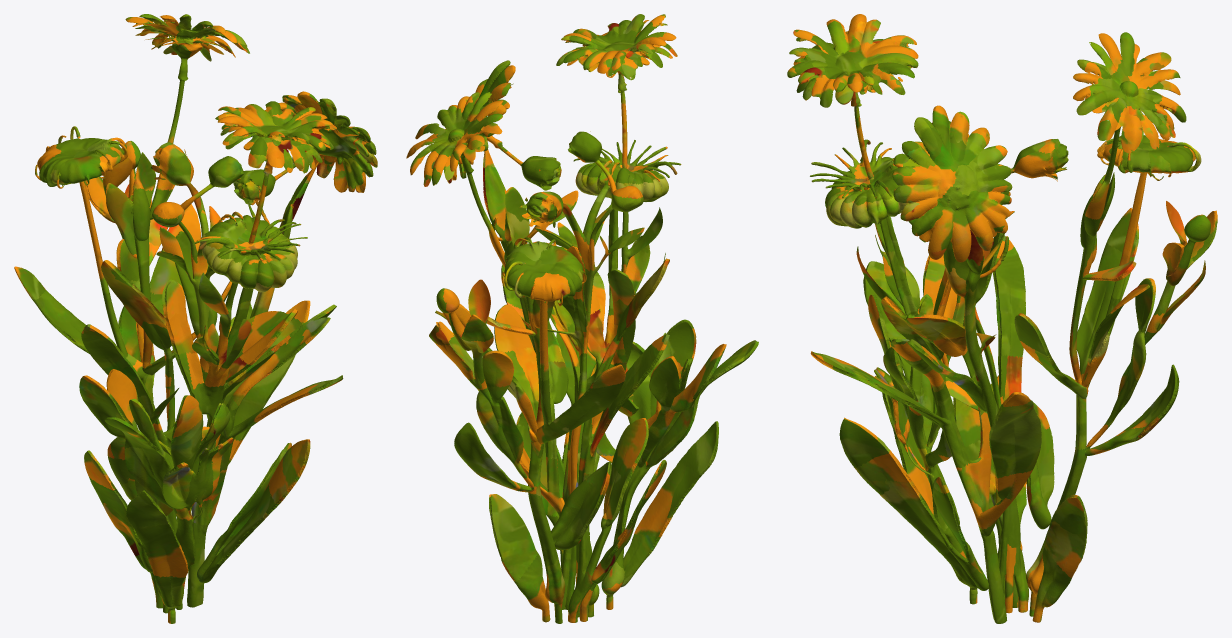
The model's file is calendula.glb.
3 views of the same model, side by side, from view 1: azimuth 30°, elevation 25°; view 2: azimuth 150°, elevation 25°; view 3: azimuth 270°, elevation 25° (orthographic). The views are drawn at different scales.
Visible parts, largest first — view 1: tripo_node_d3b6fadc-e115-4653-bdfb-9e183e3e2e68; view 2: tripo_node_d3b6fadc-e115-4653-bdfb-9e183e3e2e68; view 3: tripo_node_d3b6fadc-e115-4653-bdfb-9e183e3e2e68.
Part boxes in pixels (<box>): tripo_node_d3b6fadc-e115-4653-bdfb-9e183e3e2e68: <box>14,14,377,623</box>; tripo_node_d3b6fadc-e115-4653-bdfb-9e183e3e2e68: <box>406,14,758,623</box>; tripo_node_d3b6fadc-e115-4653-bdfb-9e183e3e2e68: <box>787,14,1217,623</box>.
Bounding box in the file's own units: 0.5395 × 1 × 0.6535.
1 material, 1 textured.
